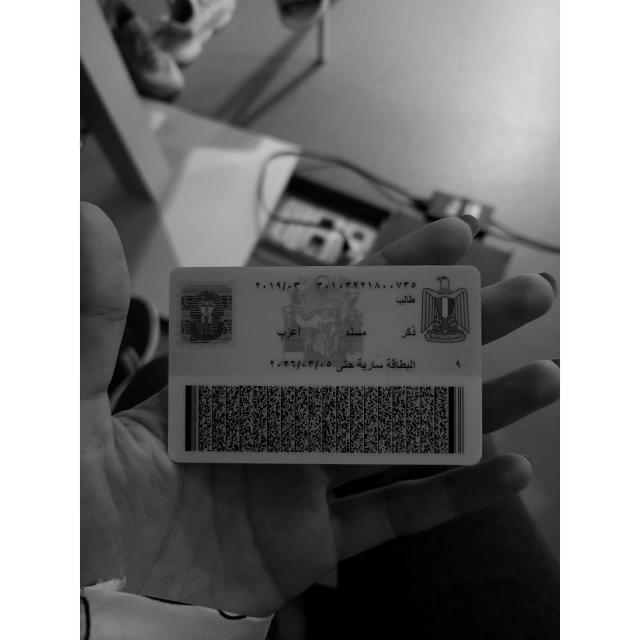id_card: (167, 265, 481, 463)
